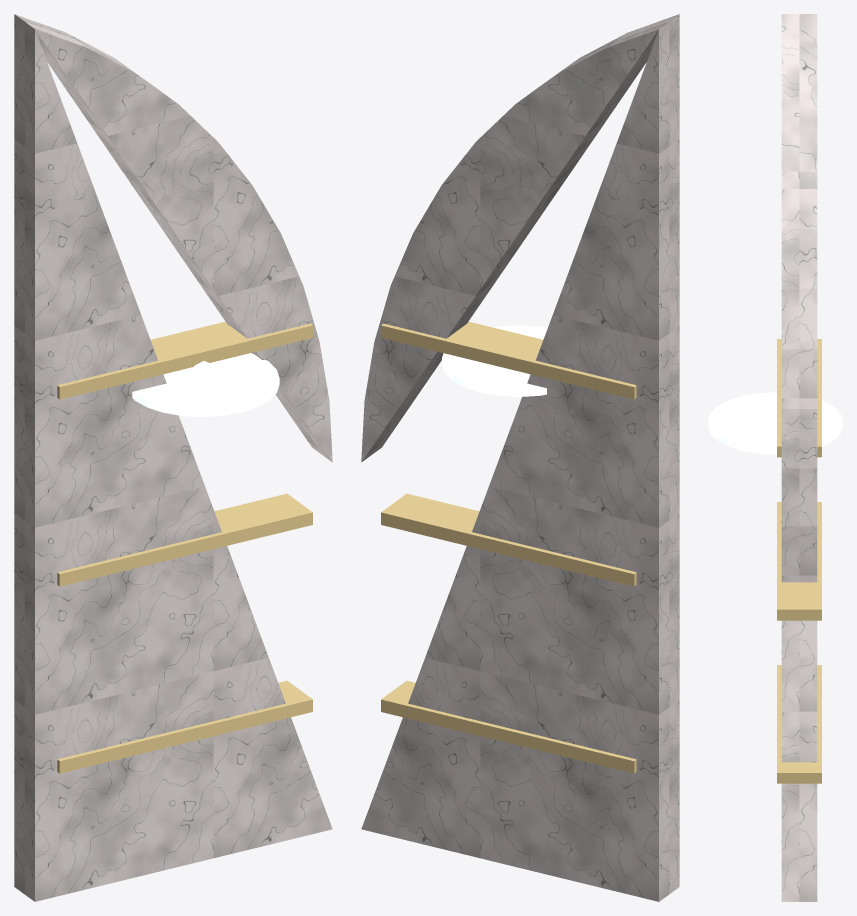
Rendered from GateDoor.glb.
3 renders of one model, left to right at view 1: azimuth 30°, elevation 25°; view 2: azimuth 150°, elevation 25°; view 3: azimuth 270°, elevation 25°, orthographic. The views are drawn at different scales.
Parts seen in each view (by area): view 1: GateDoor-marble, GateDoor-gold, GateDoor-glow; view 2: GateDoor-marble, GateDoor-gold, GateDoor-glow; view 3: GateDoor-marble, GateDoor-gold, GateDoor-glow.
Part boxes in pixels (x1,y1,x2,y2): GateDoor-marble: [14, 14, 332, 901]; GateDoor-gold: [57, 321, 312, 773]; GateDoor-glow: [132, 353, 279, 416]; GateDoor-marble: [361, 14, 679, 901]; GateDoor-gold: [381, 321, 636, 773]; GateDoor-glow: [442, 325, 547, 396]; GateDoor-marble: [781, 14, 817, 901]; GateDoor-gold: [777, 339, 821, 783]; GateDoor-glow: [708, 392, 842, 454].
Size of the model in its own units: 20 by 56 by 9.
Materials: 3 (1 with a texture image).
